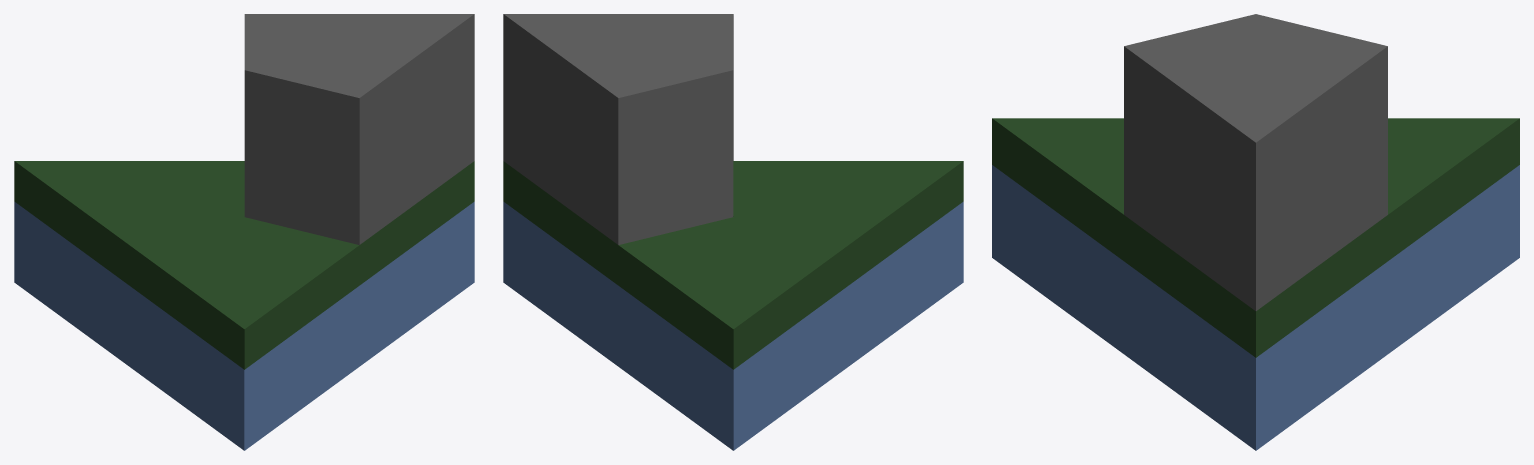
File: tri_16.glb
3 views of the same model, side by side, from view 1: azimuth 30°, elevation 25°; view 2: azimuth 150°, elevation 25°; view 3: azimuth 270°, elevation 25° (orthographic). The views are drawn at different scales.
Parts seen in each view (by area): view 1: tri_16; view 2: tri_16; view 3: tri_16.
Boxes of the visible parts, x1,y1,x2,y2 form: tri_16: [14, 14, 474, 450]; tri_16: [503, 14, 963, 450]; tri_16: [992, 14, 1519, 450].
Size of the model in its own units: 0.7423 by 0.5521 by 0.8571.
